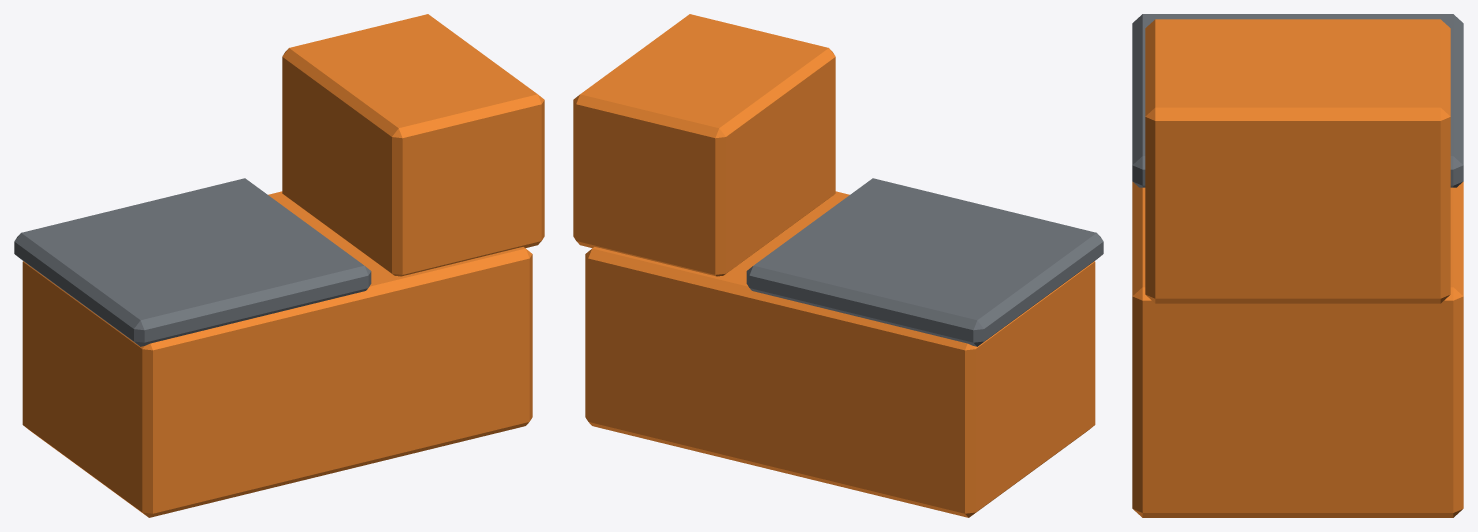
Rendered from toy_truck.glb.
3 views of the same model, side by side, from view 1: azimuth 30°, elevation 25°; view 2: azimuth 150°, elevation 25°; view 3: azimuth 270°, elevation 25° (orthographic). The views are drawn at different scales.
Visible parts, largest first — view 1: toy_truck; view 2: toy_truck; view 3: toy_truck.
Boxes of the visible parts, x1=… form: toy_truck: x1=14, y1=14, x2=544, y2=517; toy_truck: x1=573, y1=14, x2=1103, y2=517; toy_truck: x1=1132, y1=14, x2=1463, y2=517.
Bounding box in the file's own units: 0.49 × 0.365 × 0.26.
